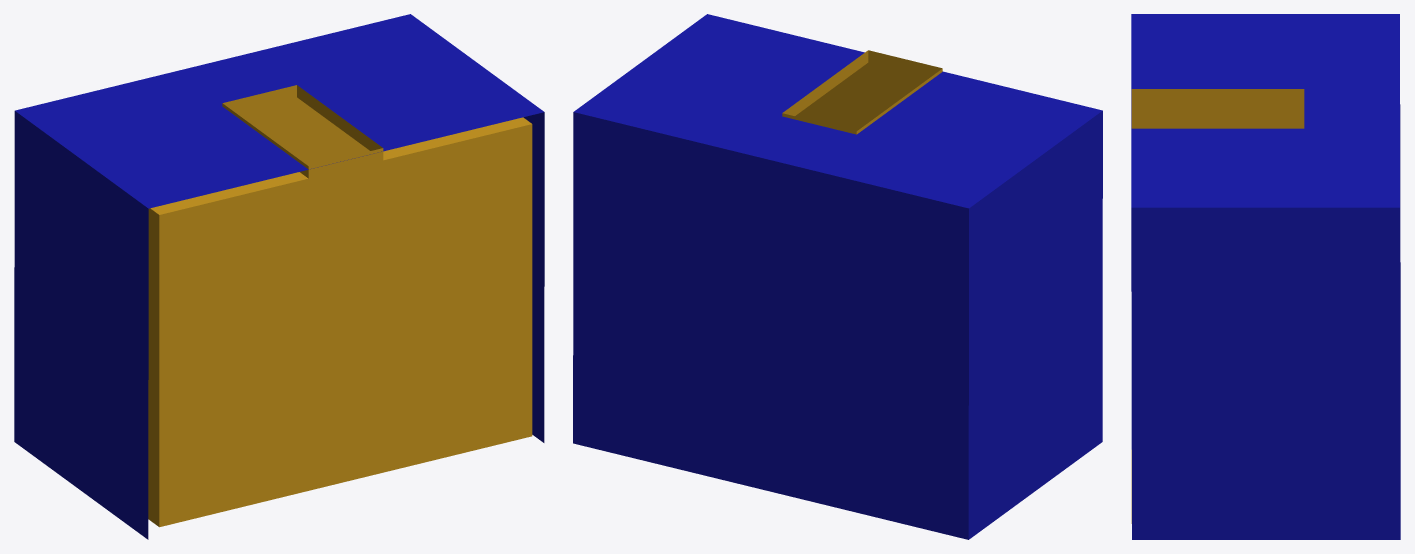
Rendered from portalRoom 1.fbx.
3 renders of one model, left to right at view 1: azimuth 30°, elevation 25°; view 2: azimuth 150°, elevation 25°; view 3: azimuth 270°, elevation 25°, orthographic.
Parts seen in each view (by area): view 1: Box002, Box004; view 2: Box004, Box002; view 3: Box004, Box002.
Part boxes in pixels (<box>): Box002: <box>148,85,532,527</box>; Box004: <box>14,14,544,539</box>; Box004: <box>573,14,1102,539</box>; Box002: <box>782,50,942,134</box>; Box004: <box>1131,14,1400,539</box>; Box002: <box>1131,89,1304,523</box>.
Size of the model in its own units: 209 by 169 by 123.
